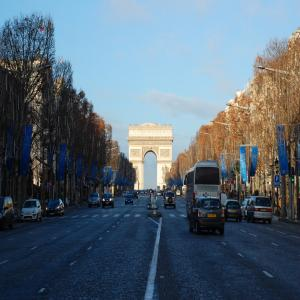Vehicle-registration-plate: (209, 216, 217, 220)
